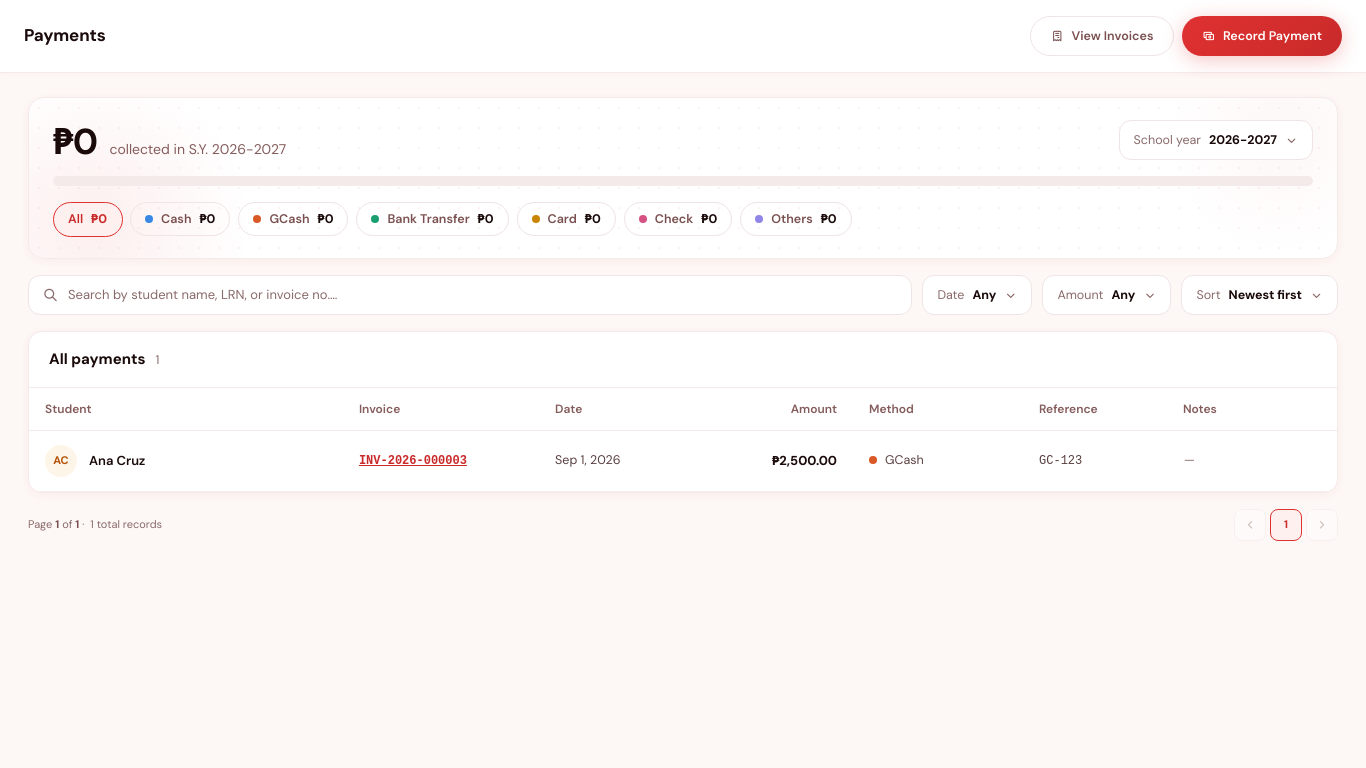
Test: Payments — band › filters by method from the legend, never scoping the totals to it
Expected: the text "Ana Cruz" is shown, x1=89 y1=451 x2=145 y2=470
Click the button with aria-label "Cash ₱3,092,431". click: (180, 219)
box: x1=130 y1=202 x2=230 y2=236
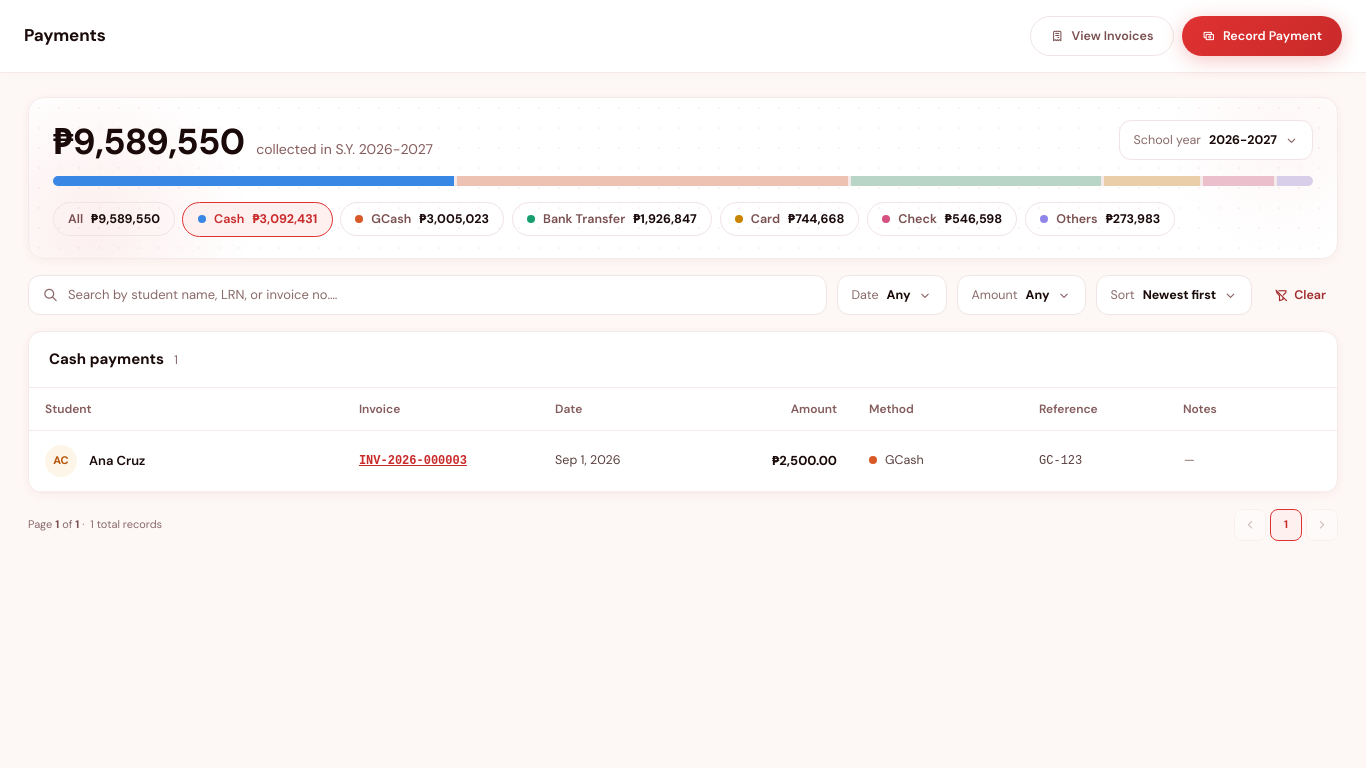
Expected: the heading "Cash payments" is shown, x1=49 y1=348 x2=164 y2=370
